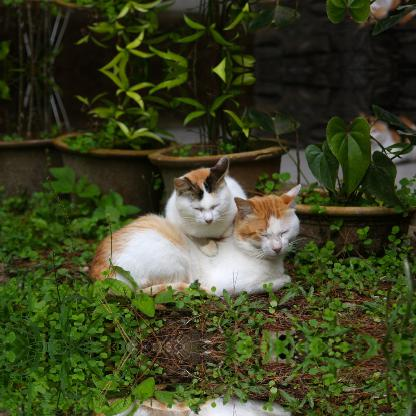Cat: (86, 184, 306, 296), (163, 154, 247, 254), (358, 110, 416, 164), (358, 0, 415, 29)
